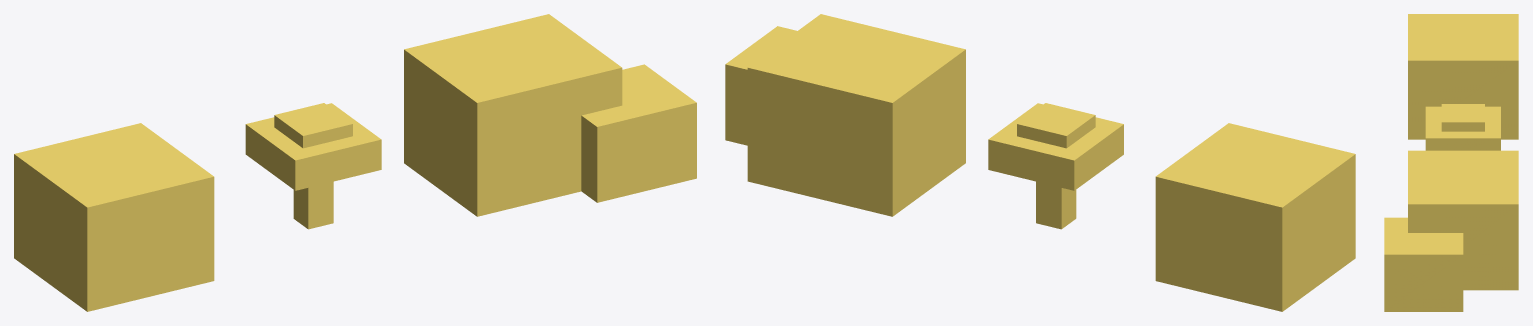
The model's file is sm_nature_props.glb.
3 renders of one model, left to right at view 1: azimuth 30°, elevation 25°; view 2: azimuth 150°, elevation 25°; view 3: azimuth 270°, elevation 25°, orthographic. The views are drawn at different scales.
Visible parts, largest first — view 1: NatureAndMushroomProps; view 2: NatureAndMushroomProps; view 3: NatureAndMushroomProps.
Boxes of the visible parts, bbox=[...] form: NatureAndMushroomProps: bbox=[14, 14, 696, 311]; NatureAndMushroomProps: bbox=[725, 14, 1355, 311]; NatureAndMushroomProps: bbox=[1384, 14, 1518, 311].
Size of the model in its own units: 6.55 by 1.2 by 1.7.
